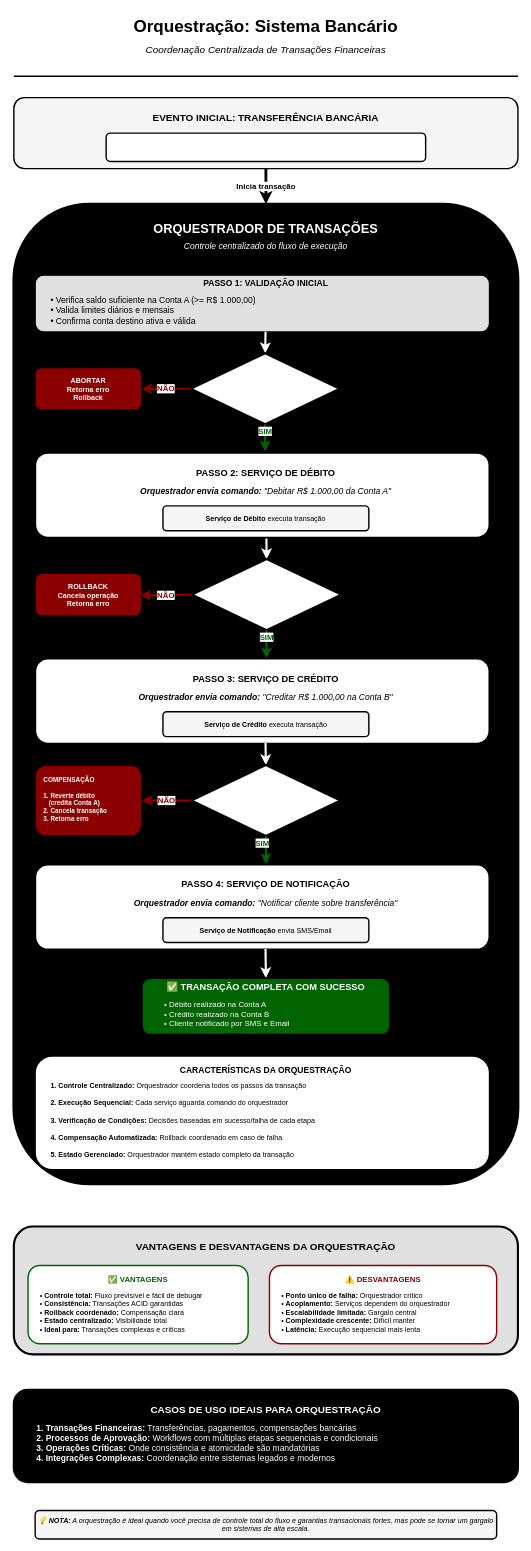
Some shapes in this 531 by 1551 pixel diagram are drawn without their labels. The shapes that lost their labels are listed below. From the top down, each one's centre as x and y in pixels, then its label:
point (265, 147): Cliente solicita transferência: R$ 1.000,00 da Conta A para Conta B
point (264, 388): Validação OK?
point (266, 594): Débito sucesso?
point (265, 800): Crédito sucesso?
